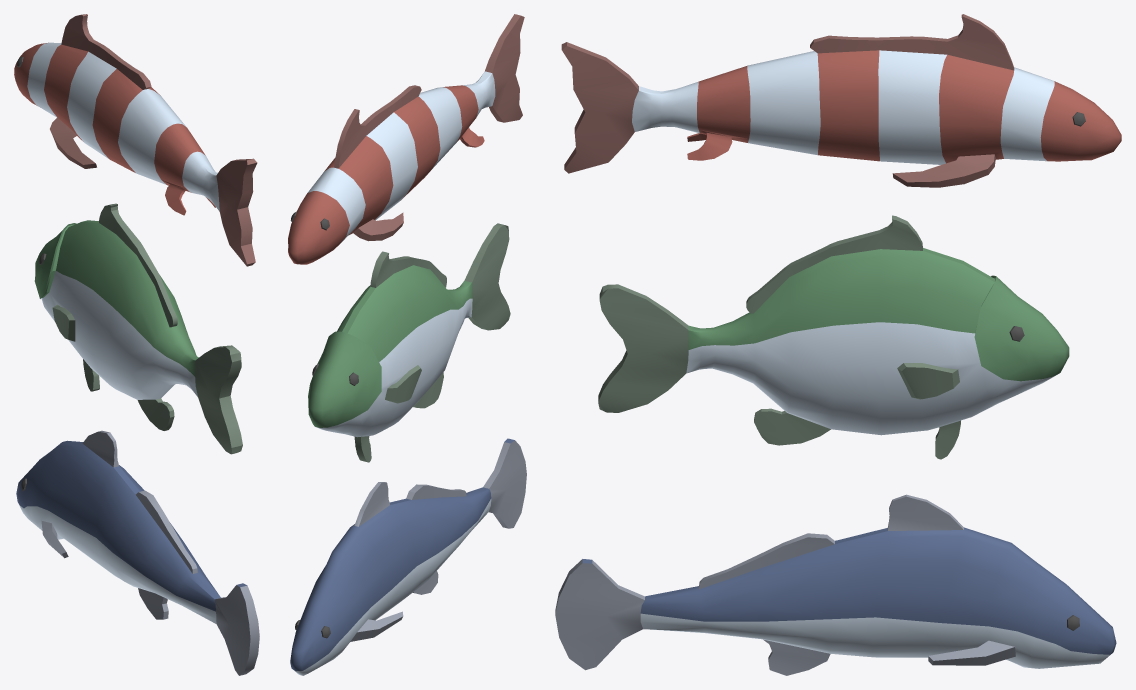
The model's file is uploads_files_6405736_free_fish_pack.fbx.
The picture shows the model from 3 angles, left to right: view 1: azimuth 30°, elevation 25°; view 2: azimuth 150°, elevation 25°; view 3: azimuth 270°, elevation 25°; orthographic projection. The views are drawn at different scales.
Visible parts, largest first — view 1: fish02, fish01, fish03; view 2: fish02, fish03, fish01; view 3: fish02, fish03, fish01.
Boxes of the visible parts, bbox=[...] form: fish02: bbox=[34, 203, 242, 454]; fish01: bbox=[14, 14, 257, 266]; fish03: bbox=[16, 430, 259, 675]; fish02: bbox=[308, 223, 510, 462]; fish03: bbox=[290, 438, 526, 675]; fish01: bbox=[288, 14, 524, 264]; fish02: bbox=[598, 215, 1069, 459]; fish03: bbox=[555, 494, 1116, 675]; fish01: bbox=[561, 14, 1121, 187].
Size of the model in its own units: 0.5861 by 3.66 by 2.85.
